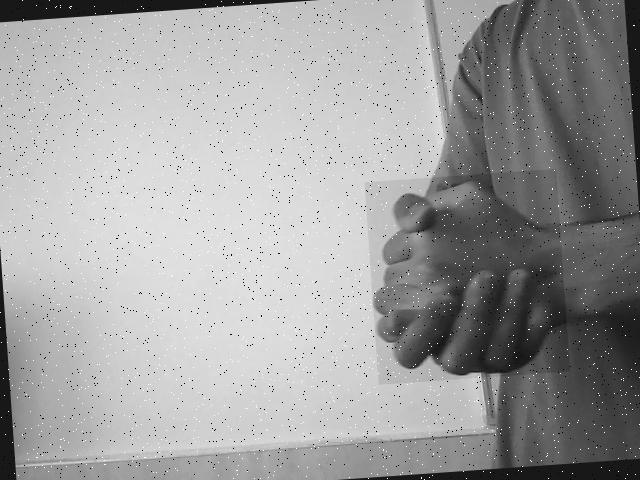friend: (373, 178, 568, 377)
